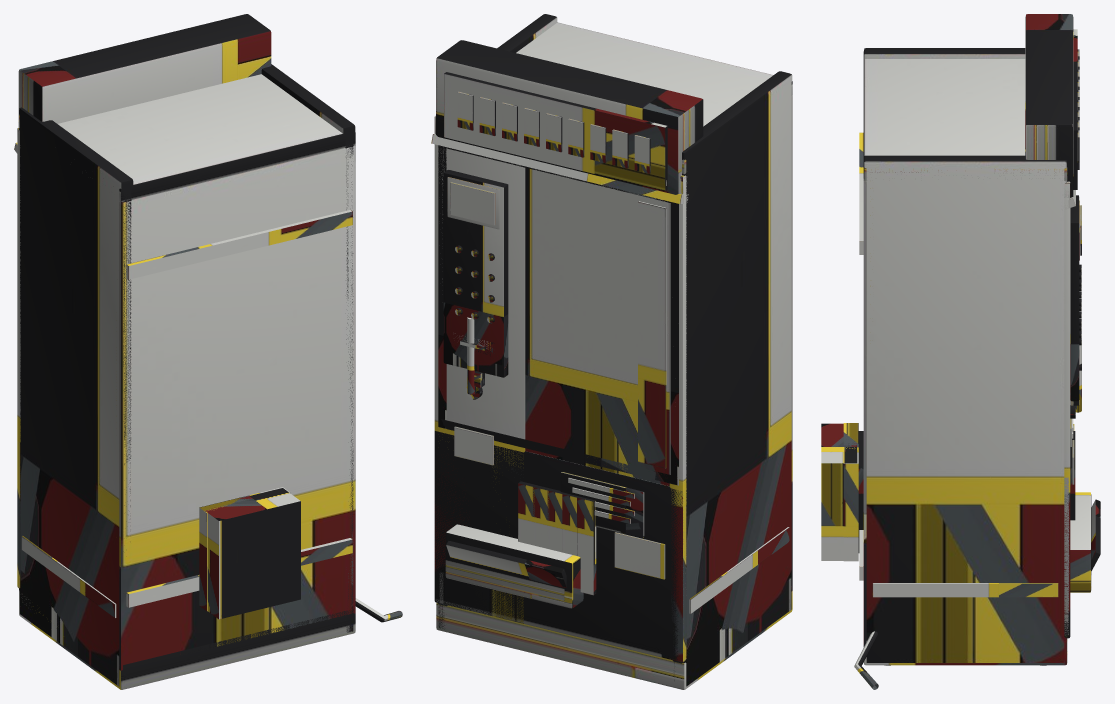
File: PR_vending_machine.glb
The picture shows the model from 3 angles, left to right: view 1: azimuth 30°, elevation 25°; view 2: azimuth 150°, elevation 25°; view 3: azimuth 270°, elevation 25°; orthographic projection. The views are drawn at different scales.
Visible parts, largest first — view 1: PR_vending_machine; view 2: PR_vending_machine; view 3: PR_vending_machine.
Part boxes in pixels (bbox=[...]): PR_vending_machine: bbox=[14, 14, 402, 689]; PR_vending_machine: bbox=[431, 14, 792, 689]; PR_vending_machine: bbox=[821, 14, 1100, 689].
Bounding box in the file's own units: 1.1 × 2.01 × 0.9334.
1 material, 1 textured.
